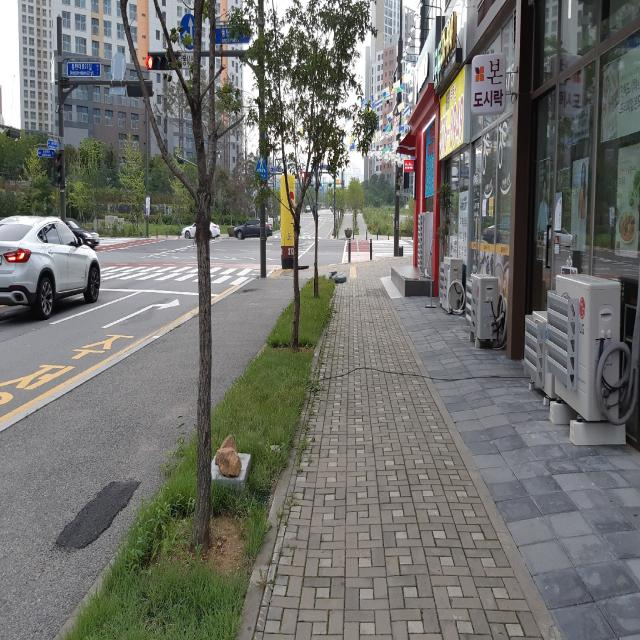횡단보도: (85, 264, 263, 290), (368, 238, 414, 258)
